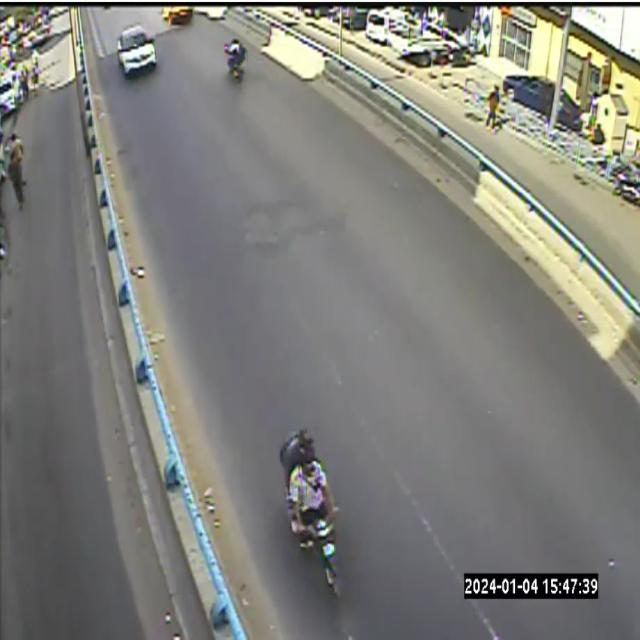car: (153, 3, 197, 33), (162, 6, 193, 25)
